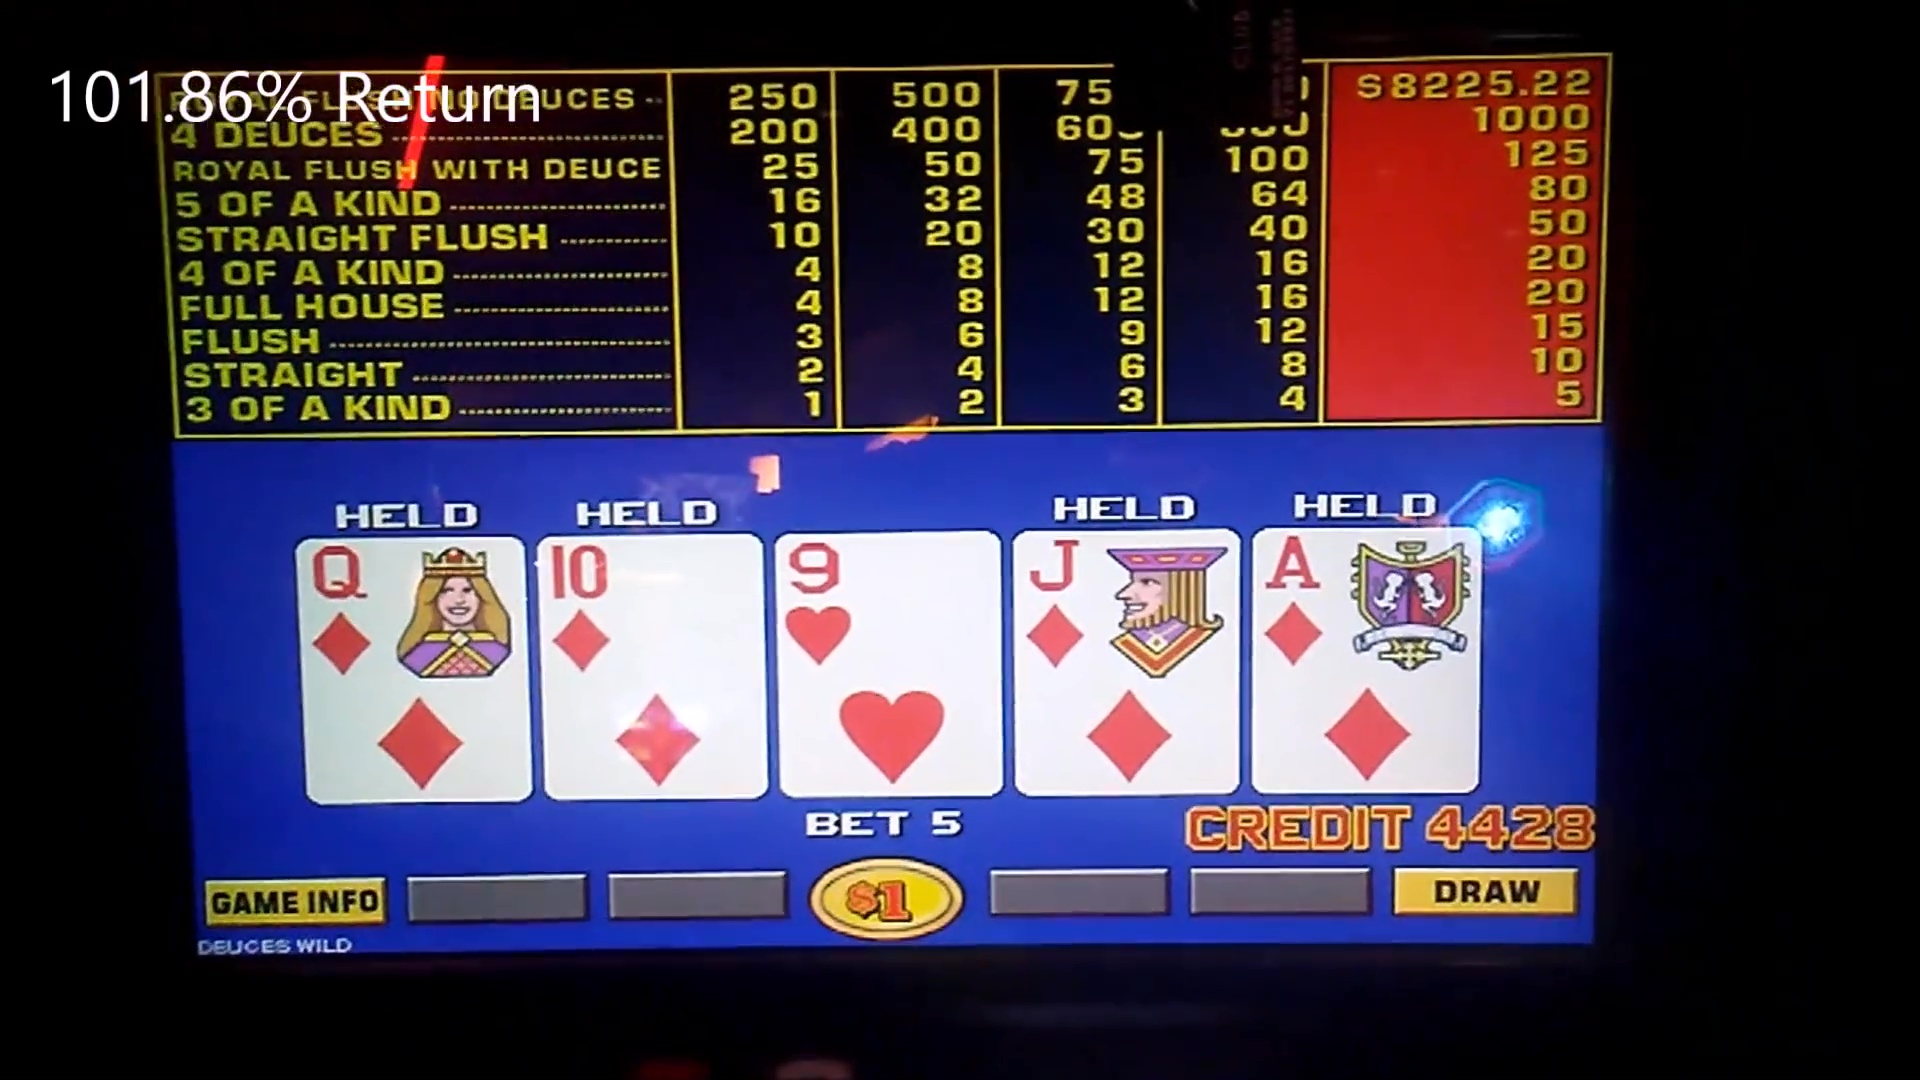DA: (1254, 527, 1480, 659)
DJ: (1015, 534, 1241, 663)
DQ: (309, 533, 527, 670)
DT: (545, 531, 771, 671)
H9: (777, 529, 1000, 663)
